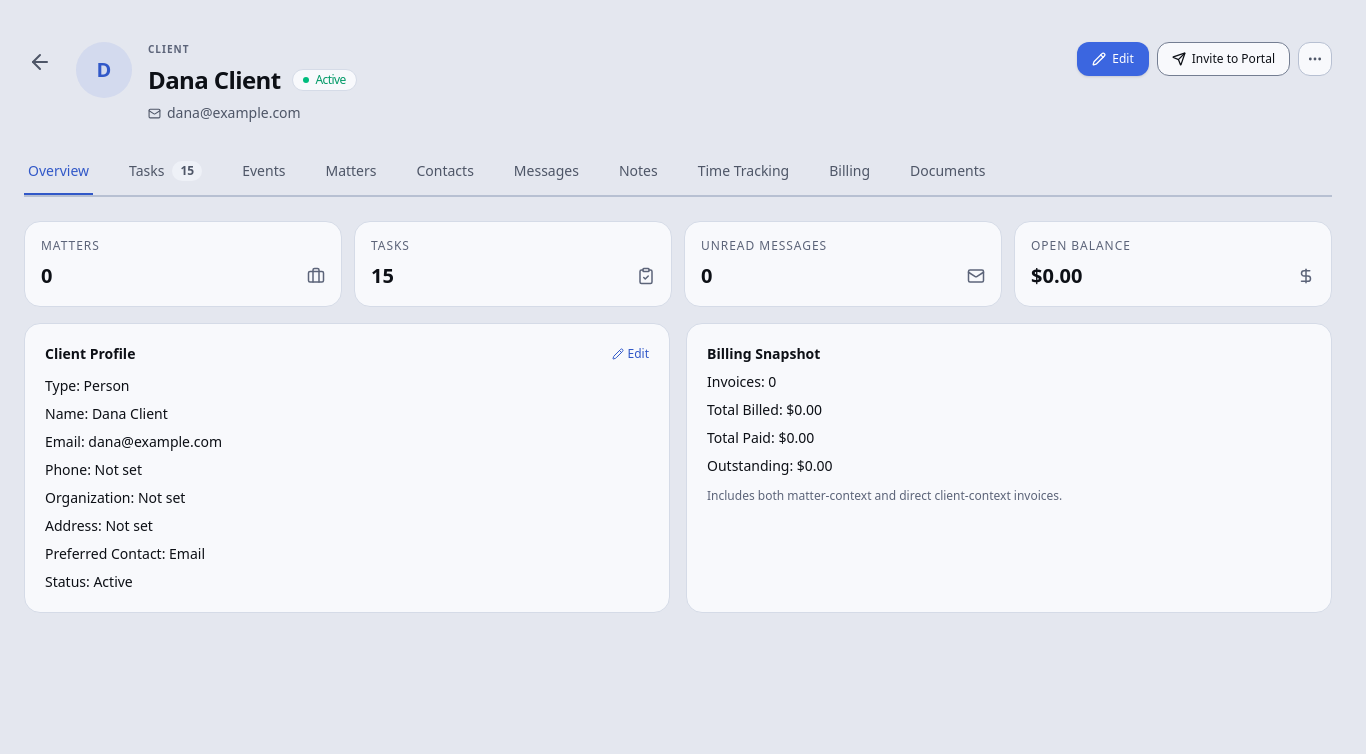
Test: paging a long task list › shows the first ten of fifteen tasks, with the range, and reaches the rest on the next page
Expected: the heading "Dana Client Active" is shown, [148,63,357,96]
Step 1. Click the 1st button "Tasks 15" → click(166, 172), box [125,149,206,195]
(page scrolled)
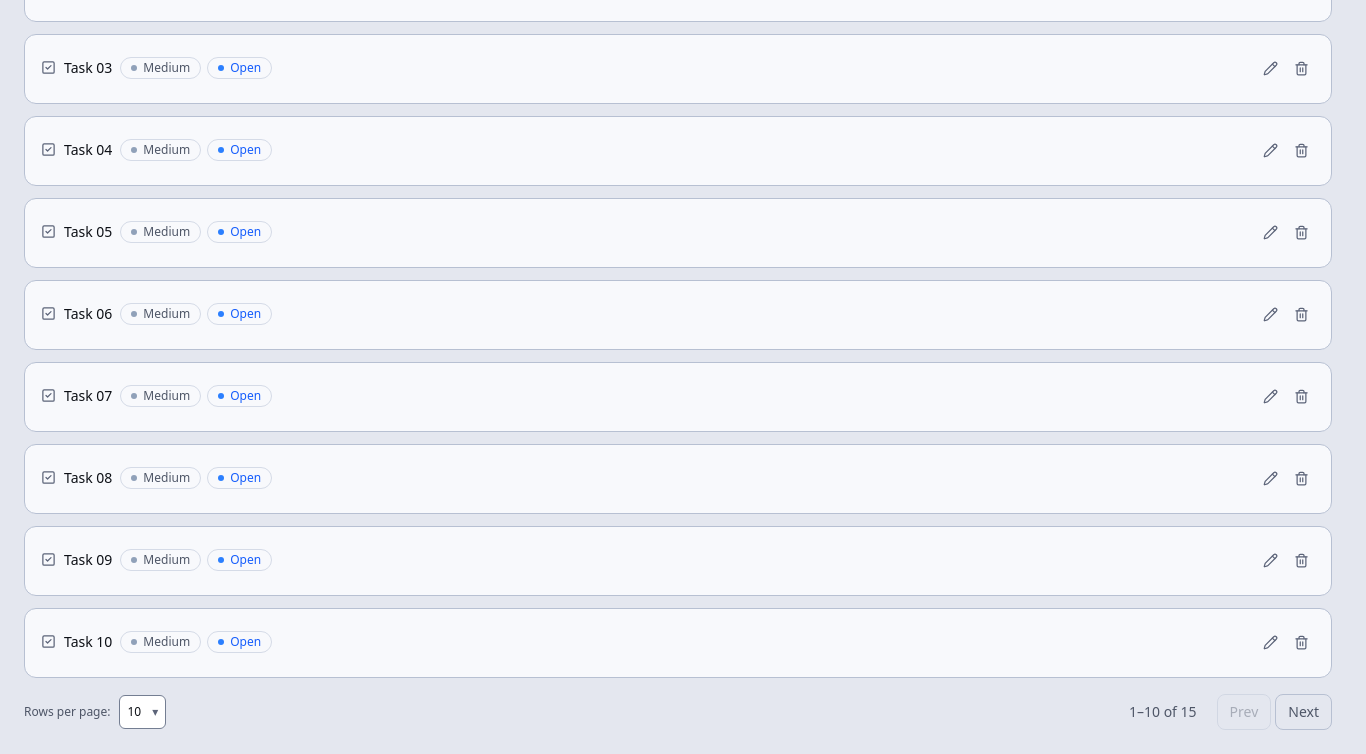
Expected: the text "Task 11" is not shown
Now the text "Task 10" is shown, box [41,632,112,652]
Now the text "1–10 of 15" is shown, box [1129,702,1205,722]
Step 2. Click the button "Next" → click(1304, 712), box [1275,694,1332,730]
(page scrolled)
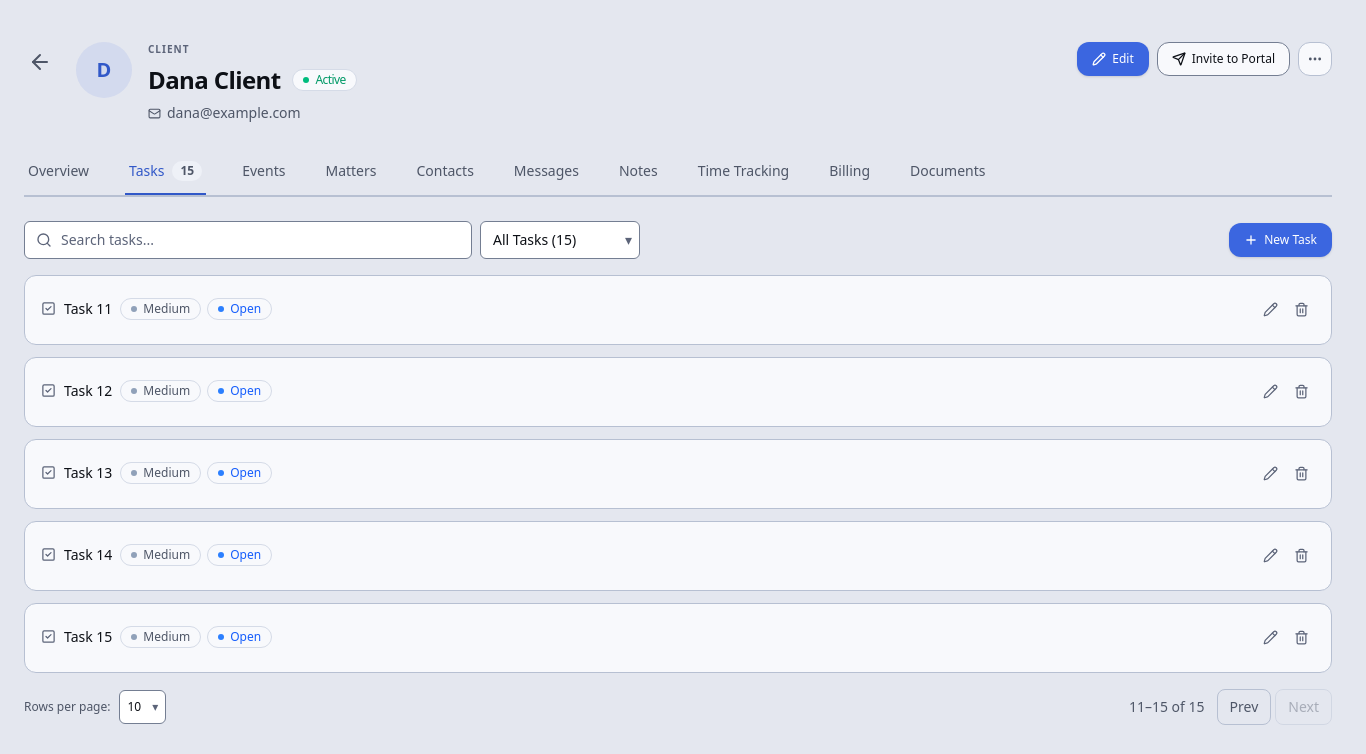
Now the text "Task 11" is shown, box [41,299,112,319]
Now the text "Task 15" is shown, box [41,627,112,647]
Now the text "11–15 of 15" is shown, box [1129,697,1205,717]
